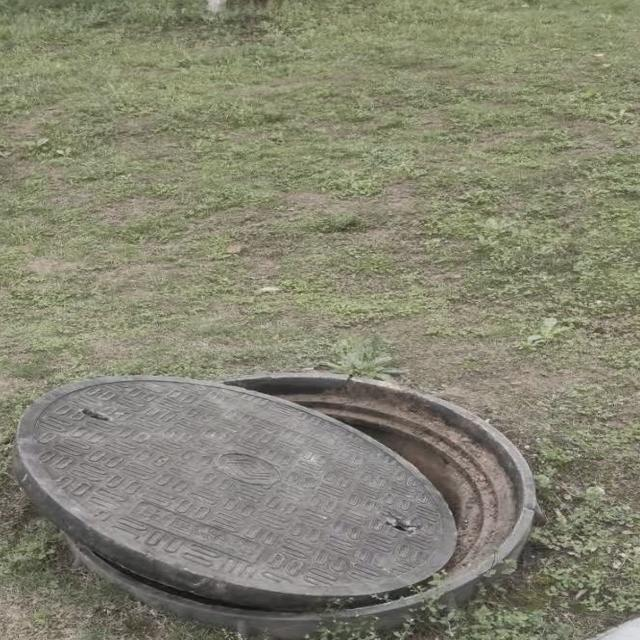uncovered: (13, 369, 544, 635)
